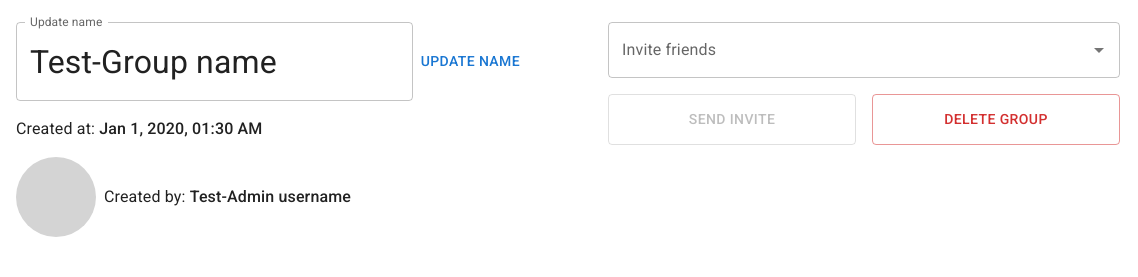
Scenario: group-details-header component › inviting friends to join group › should not disable invite button when at least 1 friend is selected
Click the button named "Open": coordinates (1099, 50) [1085, 36, 1113, 64]
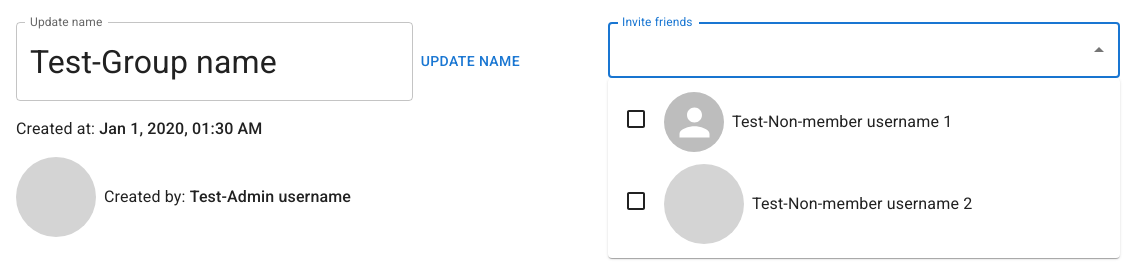
Click the option "Test-Non-member username 1": coordinates (788, 122) [624, 92, 952, 152]
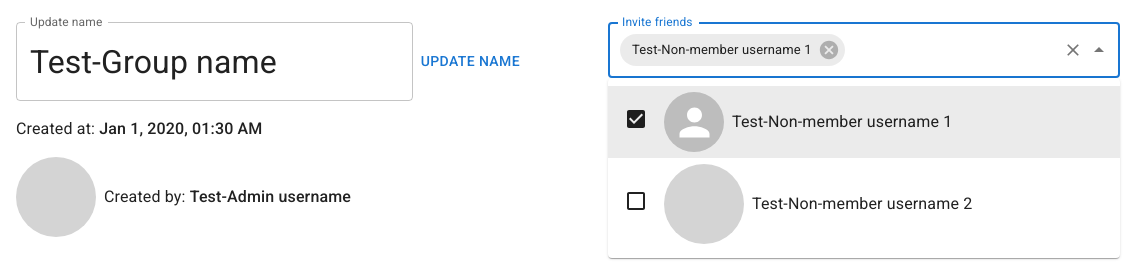
Now the button "Send Invite" is enabled, box [608, 94, 856, 144]
